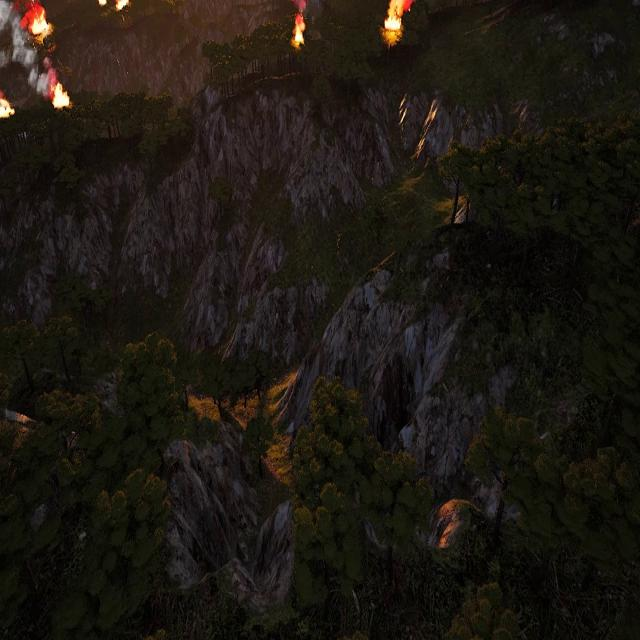fire: (383, 0, 410, 41), (30, 9, 51, 38), (54, 81, 72, 108), (292, 16, 304, 47), (0, 94, 12, 119), (114, 0, 128, 11), (98, 0, 120, 7)
smoke: (0, 2, 56, 99), (290, 0, 325, 15)
